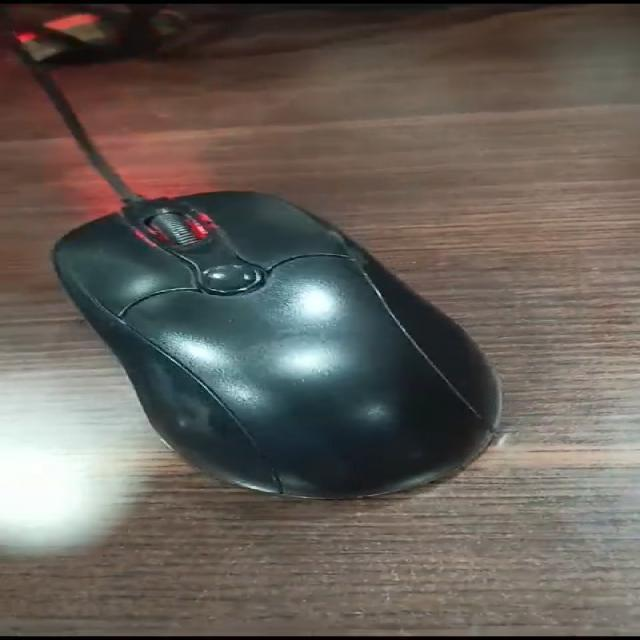mouse: (21, 162, 548, 540)
